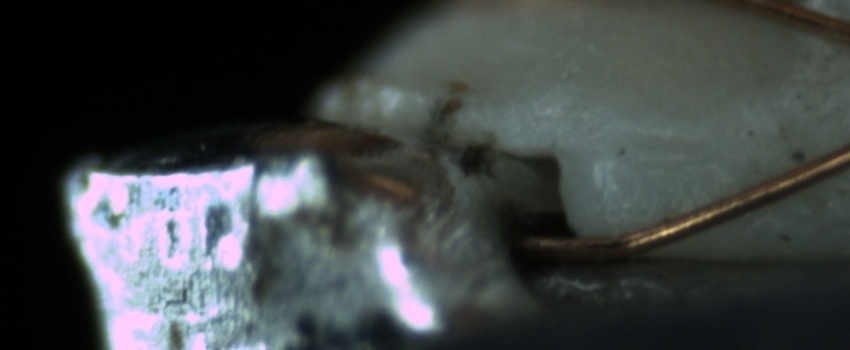DL: (602, 121, 727, 182)
